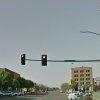Traffic light: (13, 48, 52, 74)
